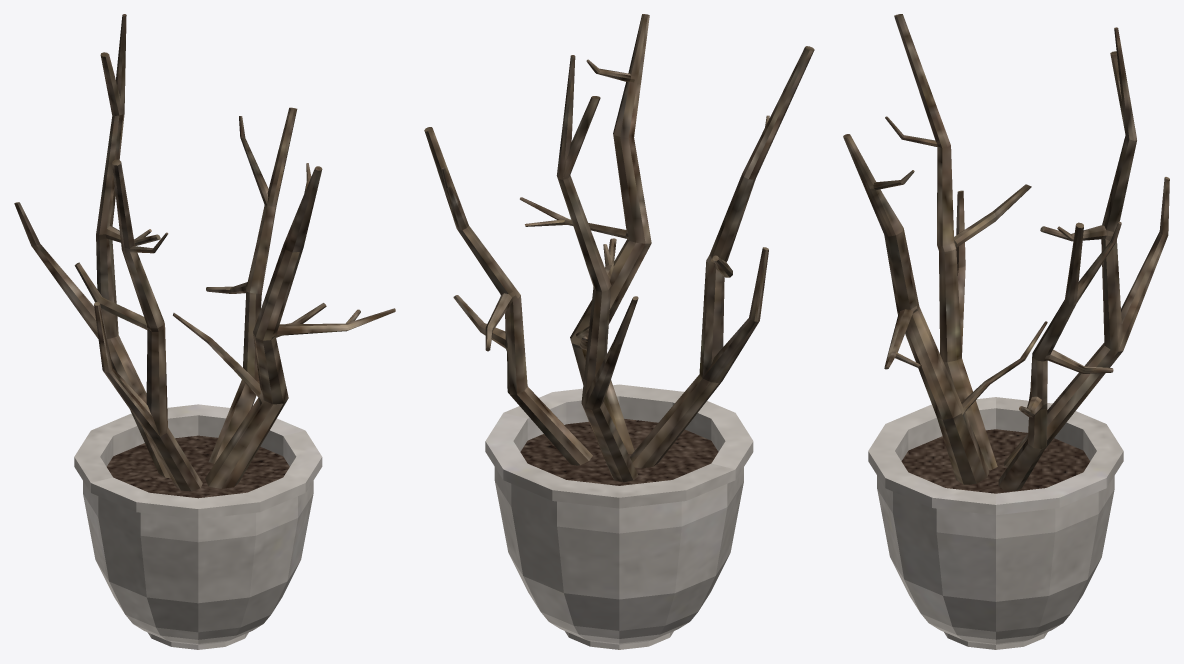
The model's file is Dead_Pot_Plant.fbx.
The picture shows the model from 3 angles, left to right: view 1: azimuth 30°, elevation 25°; view 2: azimuth 150°, elevation 25°; view 3: azimuth 270°, elevation 25°; orthographic projection. The views are drawn at different scales.
Parts seen in each view (by area): view 1: Pot, Twigs, Dirt; view 2: Pot, Twigs, Dirt; view 3: Pot, Twigs, Dirt.
Boxes of the visible parts, box(x1,y1,x2,y2) form: Pot: box(74, 404, 322, 649); Twigs: box(14, 14, 395, 491); Dirt: box(107, 435, 289, 498); Pot: box(485, 384, 753, 649); Twigs: box(424, 14, 814, 482); Dirt: box(520, 419, 718, 485); Pot: box(868, 397, 1123, 649); Twigs: box(843, 14, 1169, 491); Dirt: box(901, 429, 1090, 493).
Size of the model in its own units: 225 by 445 by 223.
3 materials, 3 textured.
